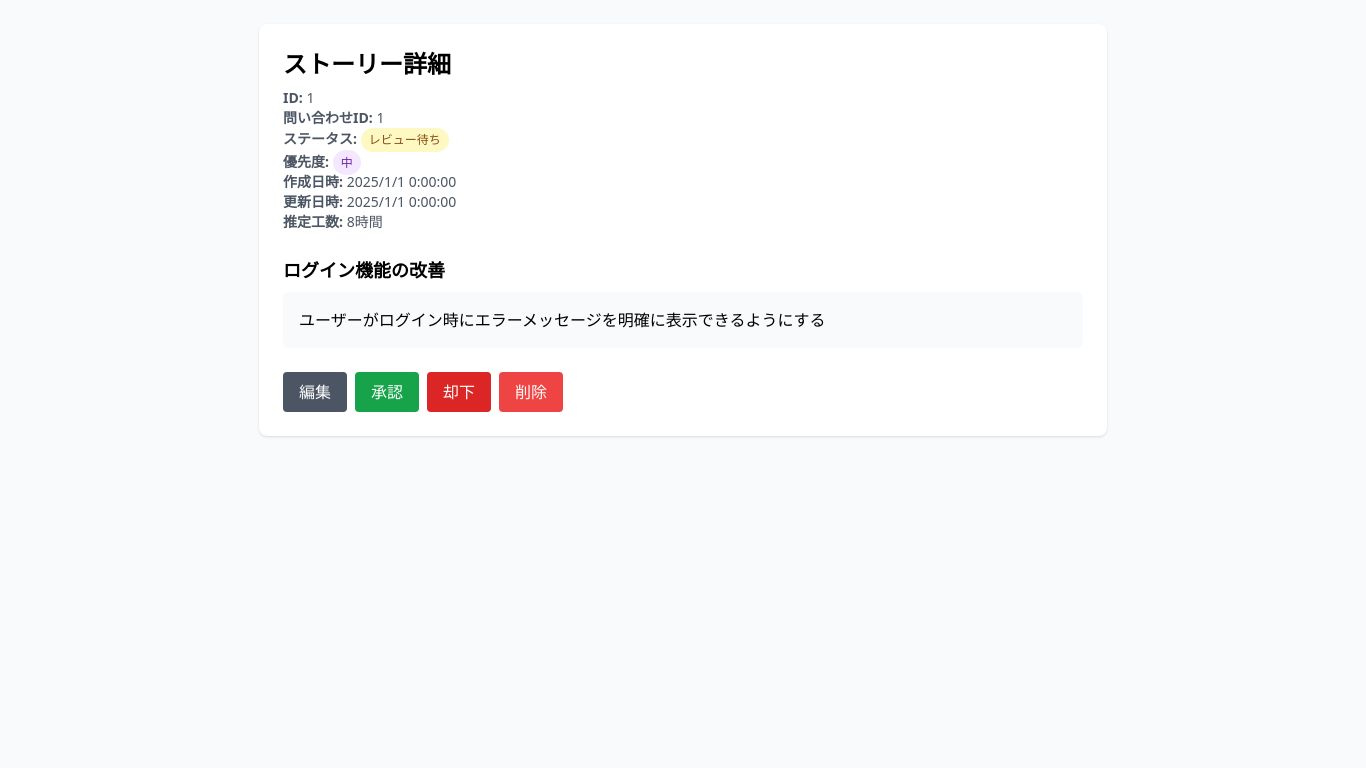
Test: Story Integration Tests - Critical Paths › Story Rejection Flow › shows validation error when reject reason is empty
Check: the heading "ログイン機能の改善" is shown, box [283,258,445,282]
却下ボタンをクリック
Click the button "却下": [459, 392] box [427,372,491,412]
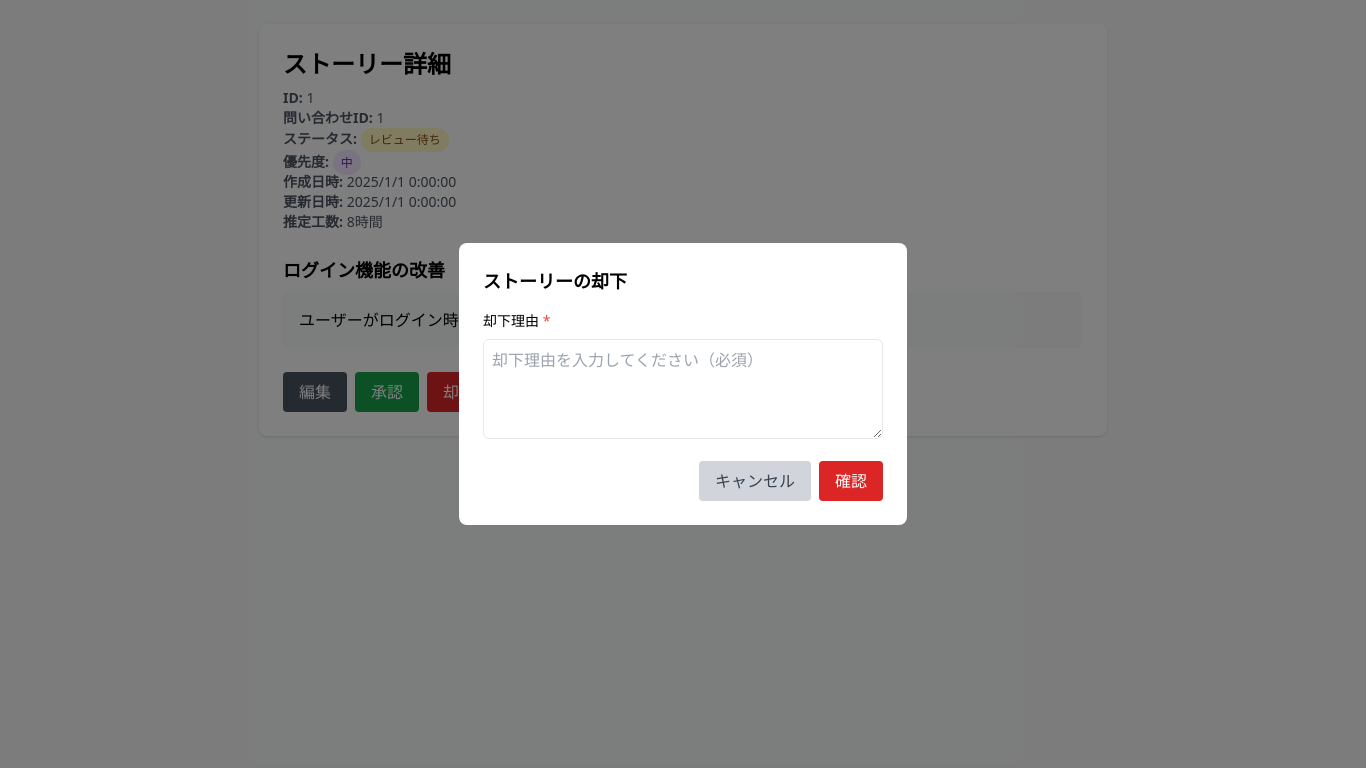
理由を入力せずに確認ボタンをクリック
Click the button "確認": [851, 481] box [819,461,883,501]
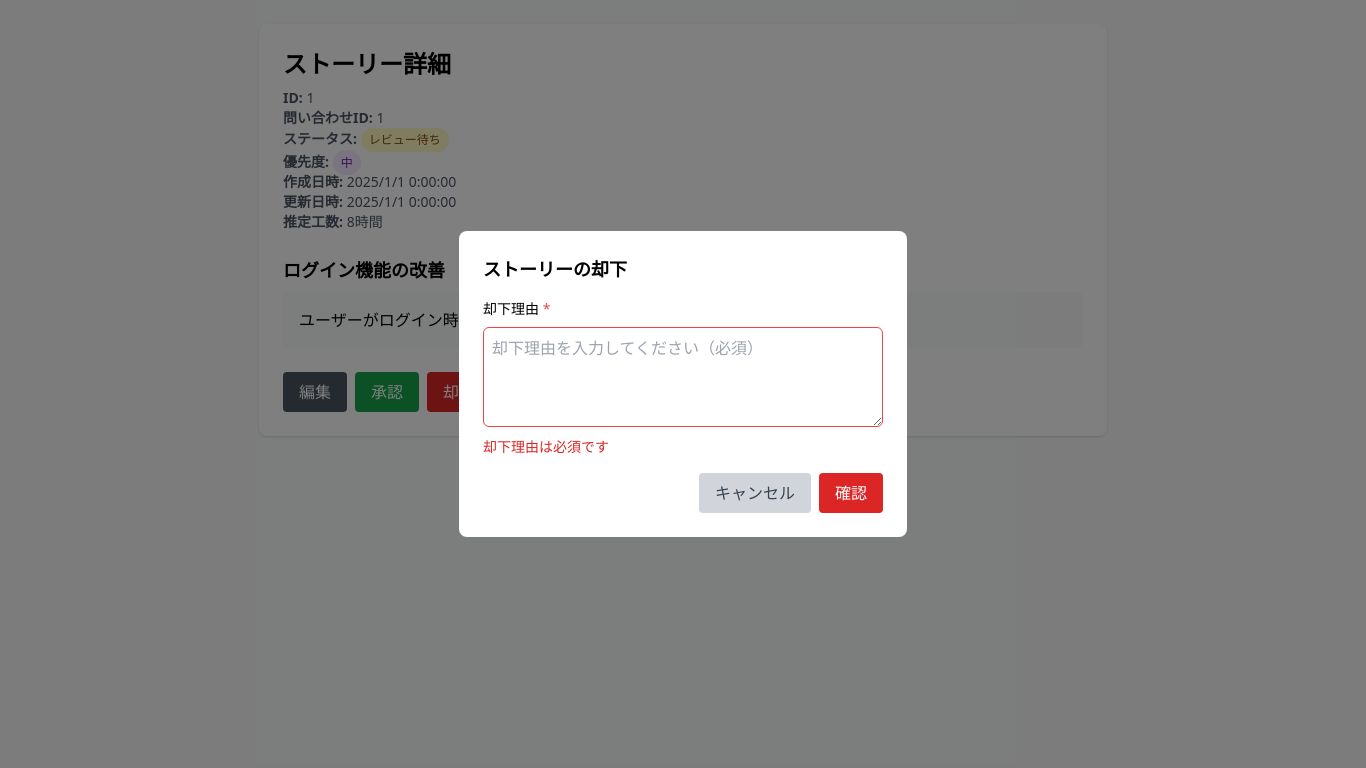
Check: the text "却下理由は必須です" is shown, box [483,437,609,456]
